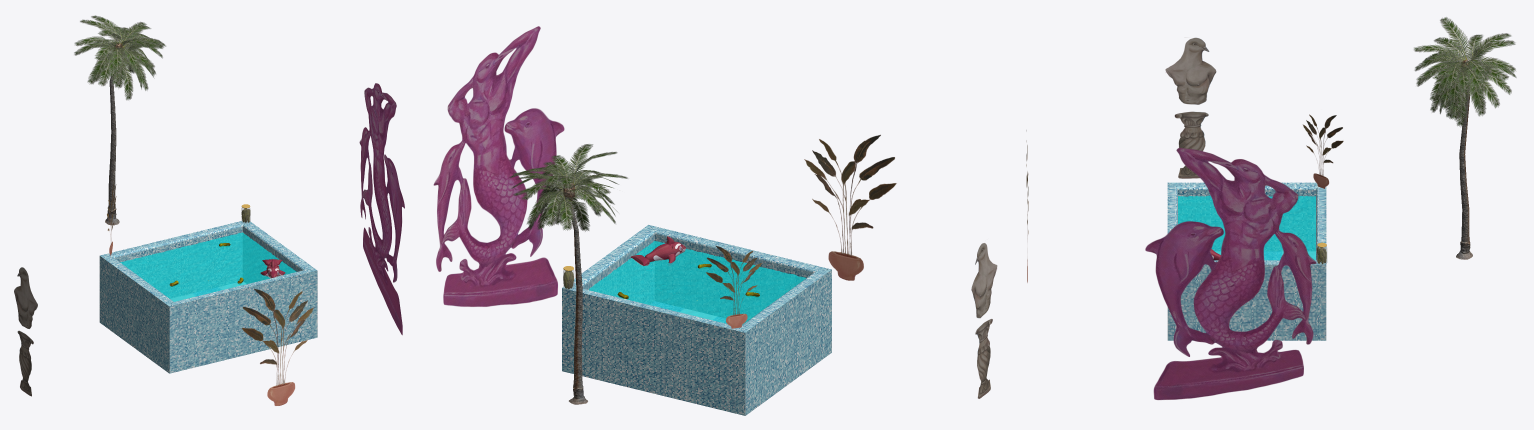
3 renders of one model, left to right at view 1: azimuth 30°, elevation 25°; view 2: azimuth 150°, elevation 25°; view 3: azimuth 270°, elevation 25°, orthographic. The views are drawn at different scales.
Visible parts, largest first — view 1: basen2, Plane.001, Plane.004, PALMLOW2_PalmFrondLOW_0, Plane.003, Plane.007, PALMLOW2_palmtrunkLOW_0; view 2: basen2, Plane.004, Plane.001, PALMLOW2_PalmFrondLOW_0, Plane.003, Plane.007, PALMLOW2_palmtrunkLOW_0, Plane.002, orca; view 3: Plane.004, basen2, PALMLOW2_PalmFrondLOW_0, Plane.007, Plane.001, PALMLOW2_palmtrunkLOW_0, Plane.002.
Boxes of the visible parts, left/top/right/bottom form: basen2: left=99, top=220, right=317, bottom=373; Plane.001: left=120, top=232, right=296, bottom=301; Plane.004: left=359, top=83, right=404, bottom=335; PALMLOW2_PalmFrondLOW_0: left=74, top=15, right=165, bottom=100; Plane.003: left=241, top=288, right=314, bottom=405; Plane.007: left=14, top=267, right=37, bottom=396; PALMLOW2_palmtrunkLOW_0: left=108, top=43, right=122, bottom=205; basen2: left=562, top=225, right=831, bottom=415; Plane.004: left=433, top=26, right=564, bottom=306; Plane.001: left=589, top=241, right=806, bottom=324; PALMLOW2_PalmFrondLOW_0: left=509, top=144, right=627, bottom=231; Plane.003: left=804, top=134, right=896, bottom=280; Plane.007: left=971, top=243, right=997, bottom=398; PALMLOW2_palmtrunkLOW_0: left=563, top=183, right=582, bottom=382; Plane.002: left=706, top=245, right=761, bottom=328; orca: left=631, top=236, right=685, bottom=265; Plane.004: left=1145, top=148, right=1316, bottom=399; basen2: left=1167, top=182, right=1326, bottom=340; PALMLOW2_PalmFrondLOW_0: left=1414, top=17, right=1516, bottom=126; Plane.007: left=1165, top=37, right=1216, bottom=178; Plane.001: left=1178, top=195, right=1315, bottom=260; PALMLOW2_palmtrunkLOW_0: left=1459, top=60, right=1469, bottom=237; Plane.002: left=1303, top=114, right=1343, bottom=188.
Bounding box in the file's own units: 3.01 × 1.87 × 2.91.
Materials: 24 (13 with a texture image).
